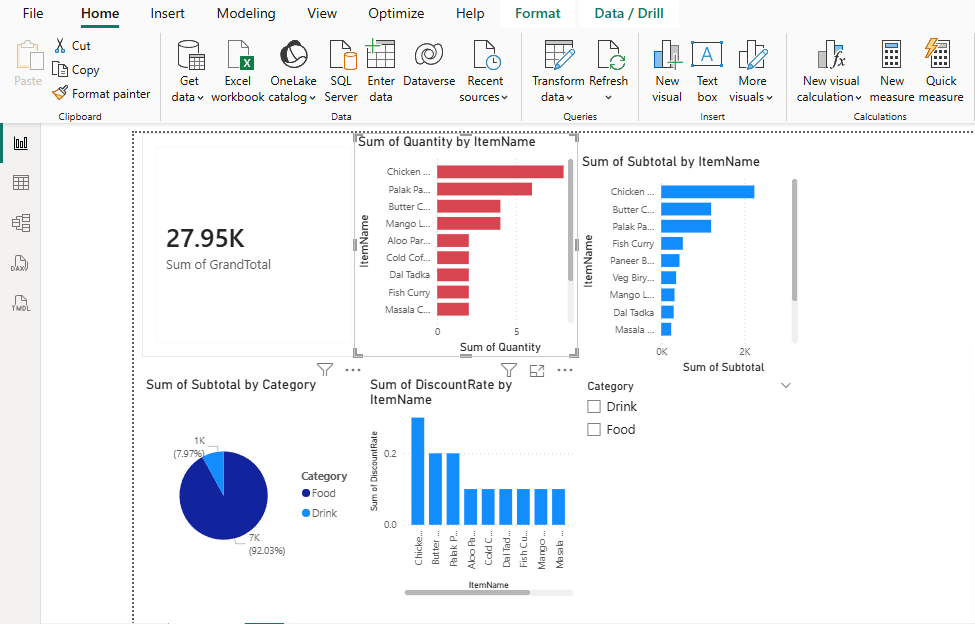

What the dashboard file says about the page in this screenshot:
{"tool":"powerbi","page":{"name":"Page 1","canvas":[1280,720],"ordinal":0},"visuals":[{"type":"cardVisual","fields":{"Data":["Sum(order_history.GrandTotal)"]},"box":[10,0,280,280],"z":0},{"type":"barChart","fields":{"Category":["order_history.ItemName"],"Y":["Sum(order_history.Quantity)"]},"box":[274.4,0,280,280],"z":1},{"type":"barChart","fields":{"Category":["order_history.ItemName"],"Y":["Sum(order_history.Subtotal)"]},"box":[554.4,24.4,280,280],"z":2},{"type":"pieChart","fields":{"Category":["order_history.Category"],"Y":["Sum(order_history.Subtotal)"]},"box":[10,304,280,280],"z":3},{"type":"slicer","fields":{"Values":["order_history.Category"]},"box":[554,304,280,280],"z":5},{"type":"columnChart","fields":{"Category":["order_history.ItemName"],"Y":["Sum(order_history.DiscountRate)"]},"box":[290,304,264,280],"z":6}]}

Visuals, with their boxes on the page's 1280x720 design canvas (x1, y1, x2, y2). These are canvas units, not pixel positions in the 975x624 screenshot, which may show the page scaled, cropped or inside an application window:
cardVisual - Sum(order_history.GrandTotal): box=[10, 0, 290, 280]
barChart - order_history.ItemName x Sum(order_history.Quantity): box=[274, 0, 554, 280]
barChart - order_history.ItemName x Sum(order_history.Subtotal): box=[554, 24, 834, 304]
pieChart - order_history.Category x Sum(order_history.Subtotal): box=[10, 304, 290, 584]
slicer - order_history.Category: box=[554, 304, 834, 584]
columnChart - order_history.ItemName x Sum(order_history.DiscountRate): box=[290, 304, 554, 584]
